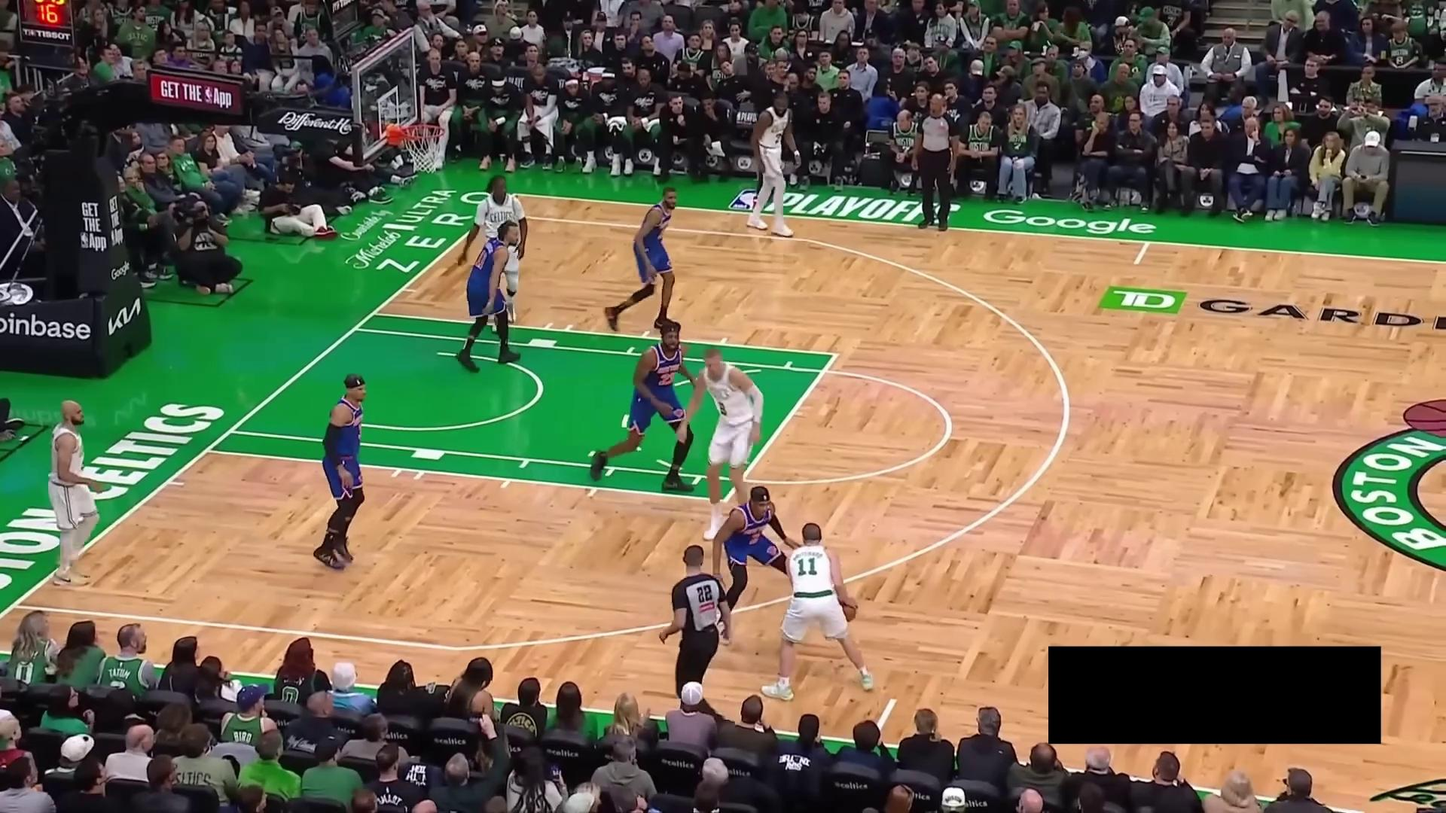ball: (839, 596, 858, 624)
number: (795, 554, 819, 579), (657, 370, 676, 389), (474, 247, 488, 270), (717, 400, 728, 417), (749, 532, 761, 546), (773, 131, 783, 145)
player: (588, 320, 698, 495), (673, 345, 769, 540), (706, 482, 802, 653), (310, 370, 373, 569), (42, 395, 106, 588), (601, 186, 683, 331), (453, 218, 525, 374), (459, 173, 530, 331), (743, 88, 806, 239)
player-in-possession: (758, 518, 880, 702)
referee: (650, 539, 738, 712), (909, 92, 960, 230)
rim: (398, 123, 446, 142)
